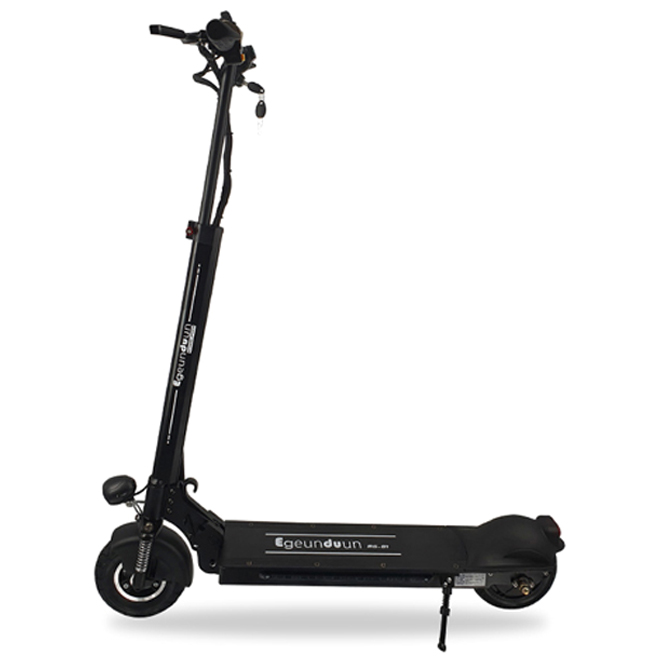scooter: (84, 4, 571, 658)
